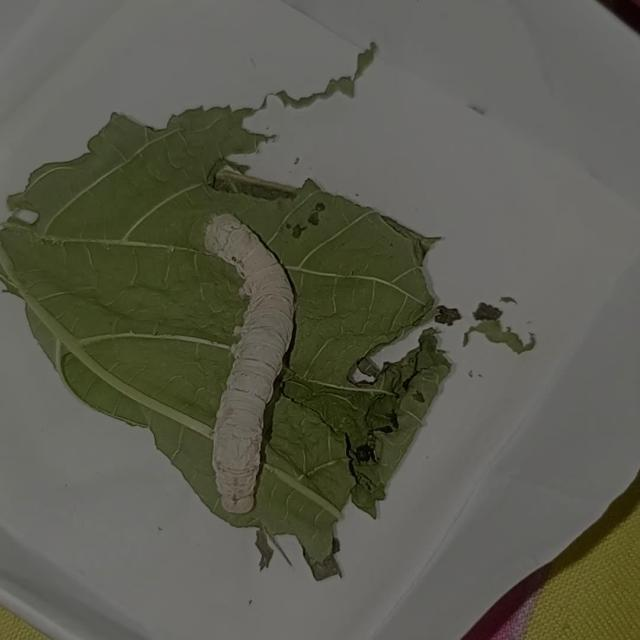Healthy: (188, 204, 310, 526)
